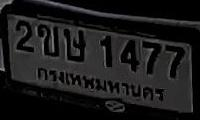number: (10, 17, 186, 79)
province: (34, 68, 166, 105)
